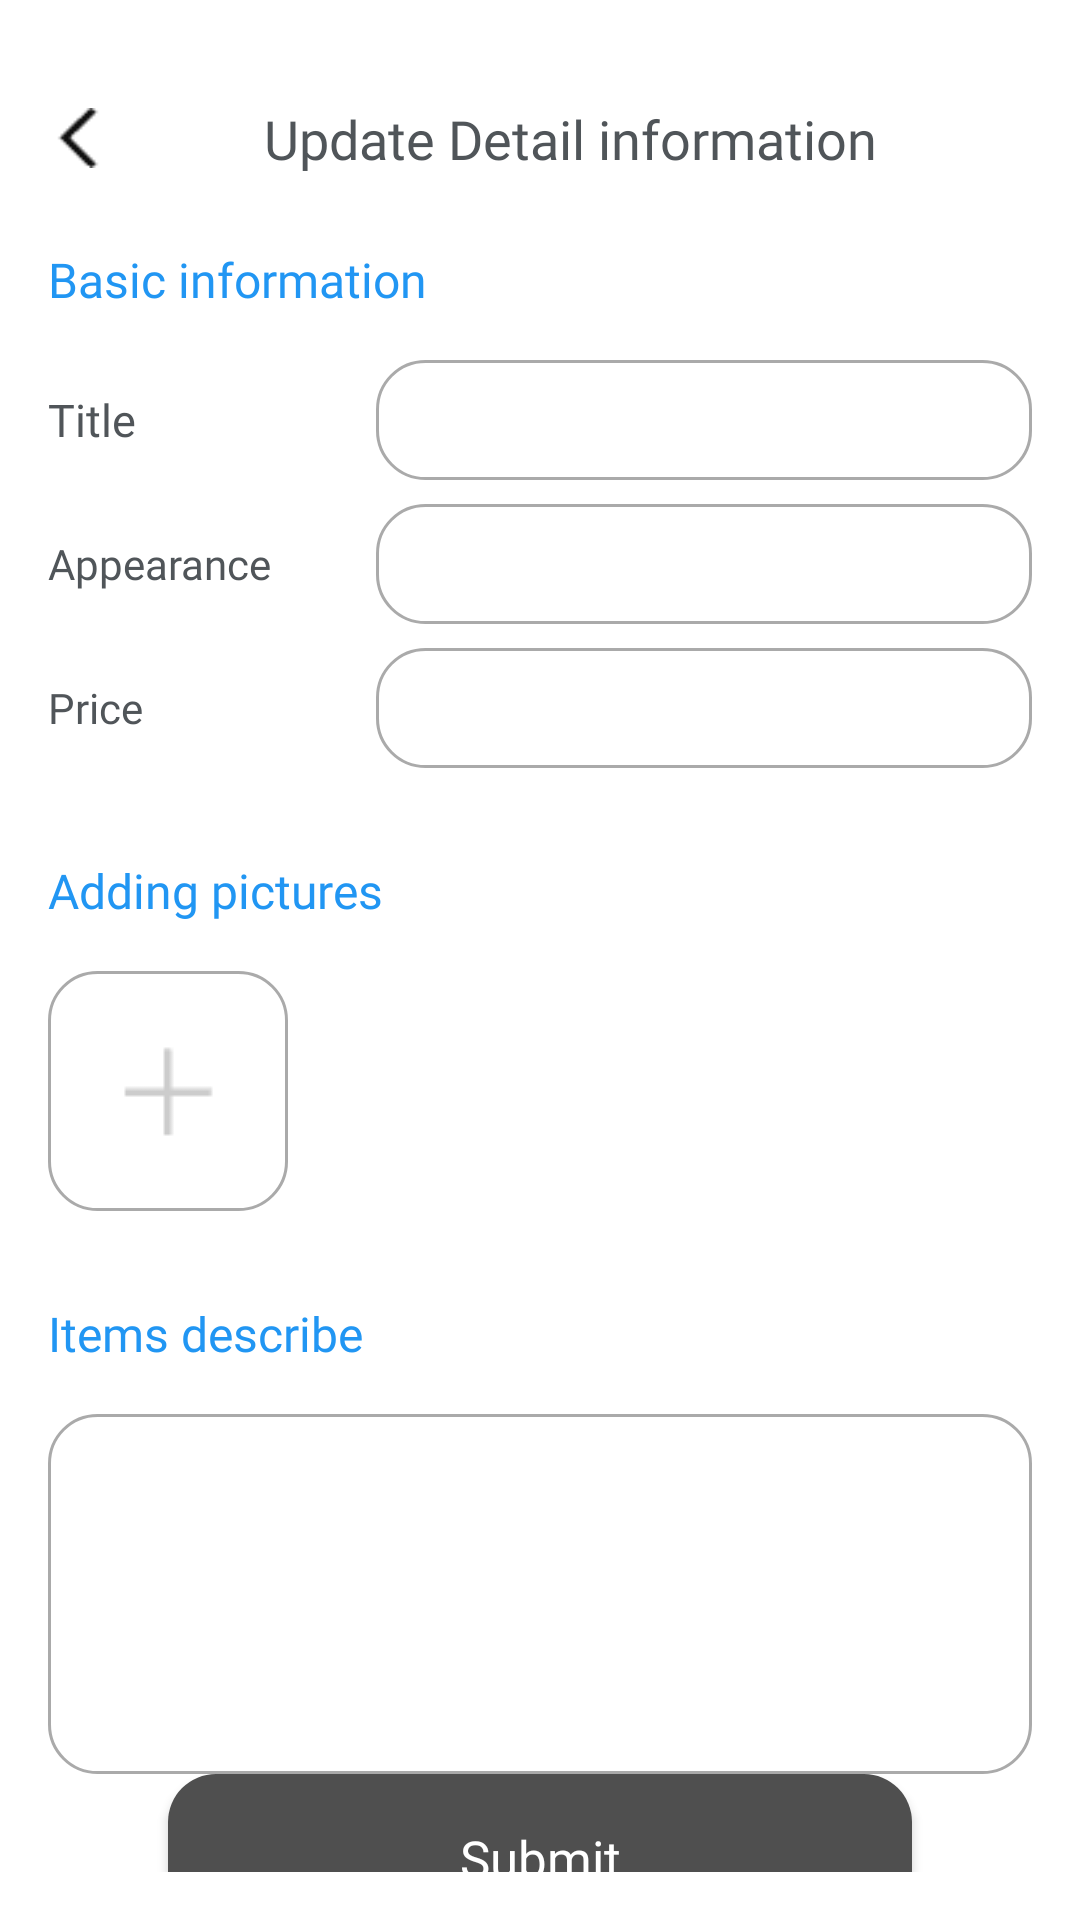

Locate icon controls on the screen. Image size 1080×1920, boxes as (x1, y1, x2, y2).
back: (58, 108, 98, 168)
